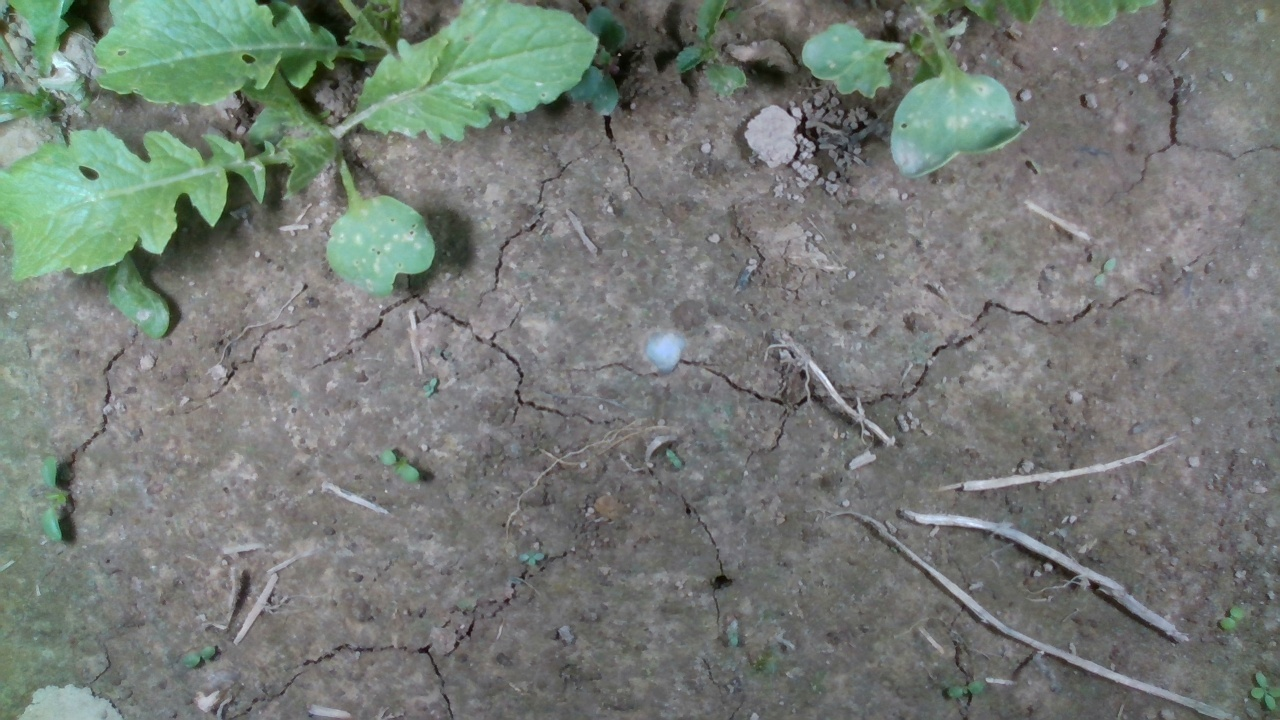weed: (378, 447, 421, 482)
